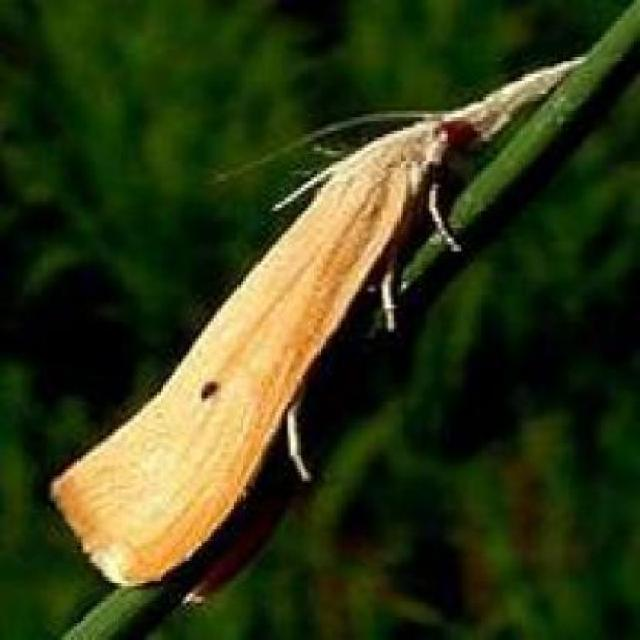stem-borer: (41, 48, 591, 599)
